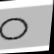no answer: (0, 16, 29, 42)
